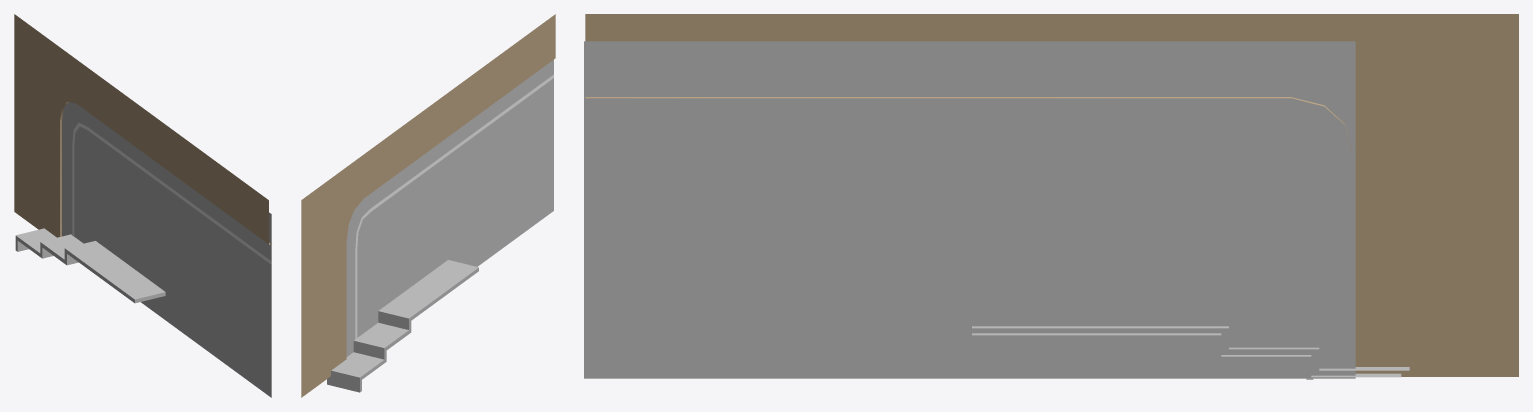
File: M_DogzhuangshiqianL01.FBX
3 renders of one model, left to right at view 1: azimuth 30°, elevation 25°; view 2: azimuth 150°, elevation 25°; view 3: azimuth 270°, elevation 25°, orthographic. The views are drawn at different scales.
Visible parts, largest first — view 1: M_DogzhuangshiqianL01_02, M_DogzhuangshiqianL01_01, M_DogzhuangshiqianL01_04, M_DogzhuangshiqianL01_03; view 2: M_DogzhuangshiqianL01_02, M_DogzhuangshiqianL01_01, M_DogzhuangshiqianL01_04, M_DogzhuangshiqianL01_03; view 3: M_DogzhuangshiqianL01_02, M_DogzhuangshiqianL01_01, M_DogzhuangshiqianL01_04.
Part boxes in pixels (x1,y1,x2,y2): M_DogzhuangshiqianL01_02: (62, 102, 271, 397); M_DogzhuangshiqianL01_01: (14, 14, 271, 244); M_DogzhuangshiqianL01_04: (15, 228, 165, 303); M_DogzhuangshiqianL01_03: (72, 122, 271, 264); M_DogzhuangshiqianL01_02: (346, 60, 553, 356); M_DogzhuangshiqianL01_01: (301, 14, 555, 397); M_DogzhuangshiqianL01_04: (327, 260, 478, 392); M_DogzhuangshiqianL01_03: (355, 74, 553, 339); M_DogzhuangshiqianL01_02: (584, 41, 1355, 378); M_DogzhuangshiqianL01_01: (585, 14, 1518, 376); M_DogzhuangshiqianL01_04: (972, 326, 1409, 377).
Bounding box in the file's own units: 0.6716 × 4.05 × 9.03.
